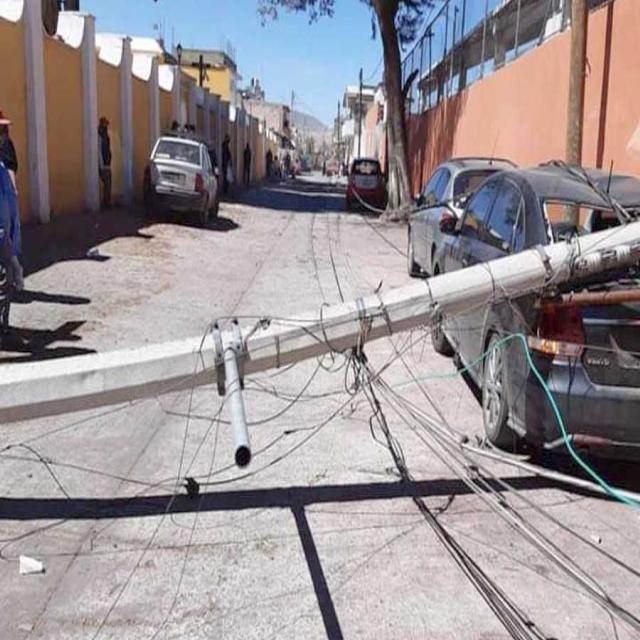light_pole: (0, 217, 640, 468)
